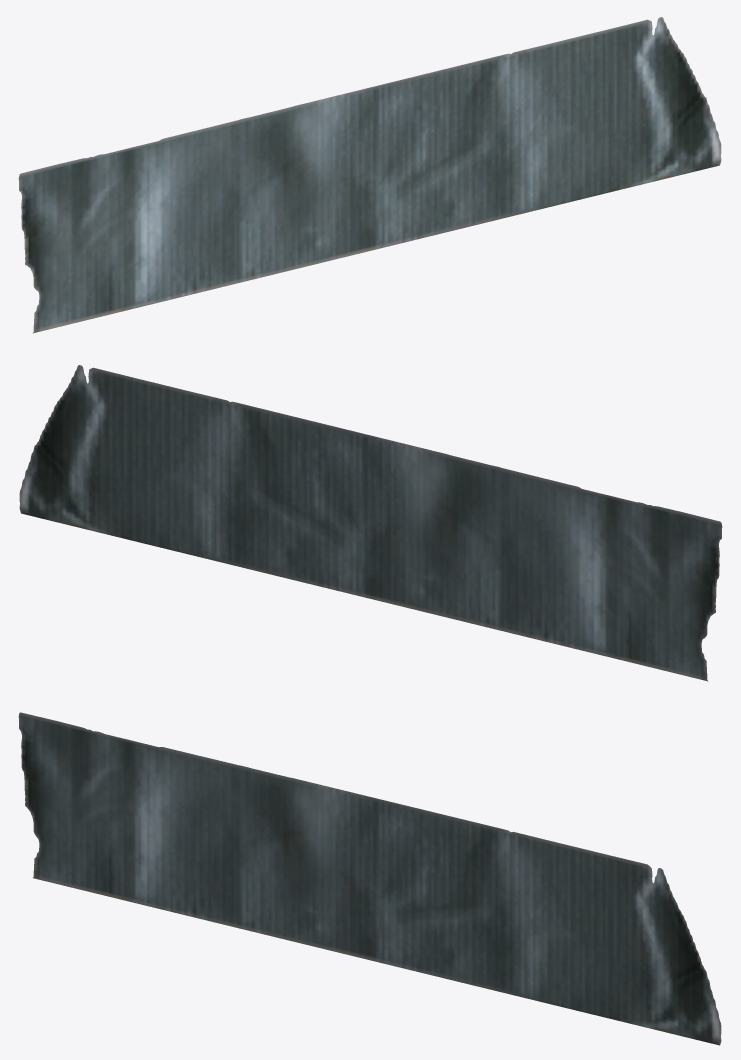
File: SM_Sign_Tape_01.glb
3 renders of one model, top to bottom at view 1: azimuth 30°, elevation 25°; view 2: azimuth 150°, elevation 25°; view 3: azimuth 330°, elevation 25°, orthographic.
Visible parts, largest first — view 1: SM_Sign_Tape_01; view 2: SM_Sign_Tape_01; view 3: SM_Sign_Tape_01.
Part boxes in pixels (x1,y1,x2,y2): SM_Sign_Tape_01: [18, 17, 721, 333]; SM_Sign_Tape_01: [19, 365, 722, 681]; SM_Sign_Tape_01: [18, 712, 721, 1045].
Bounding box in the file's own units: 0.3489 × 0.0767 × 5.73e-08.
Materials: 1 (1 with a texture image).
